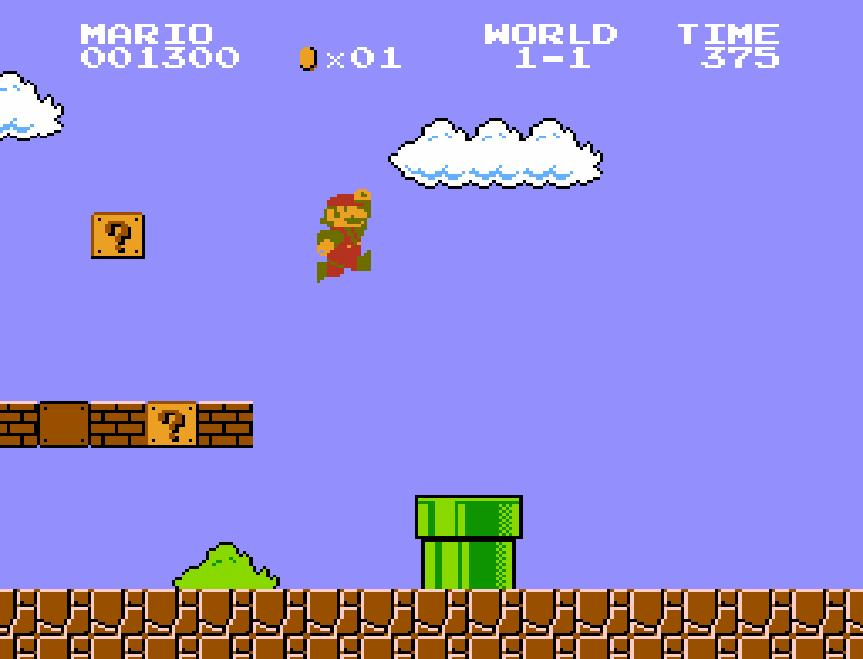big_mario: (314, 186, 372, 284)
